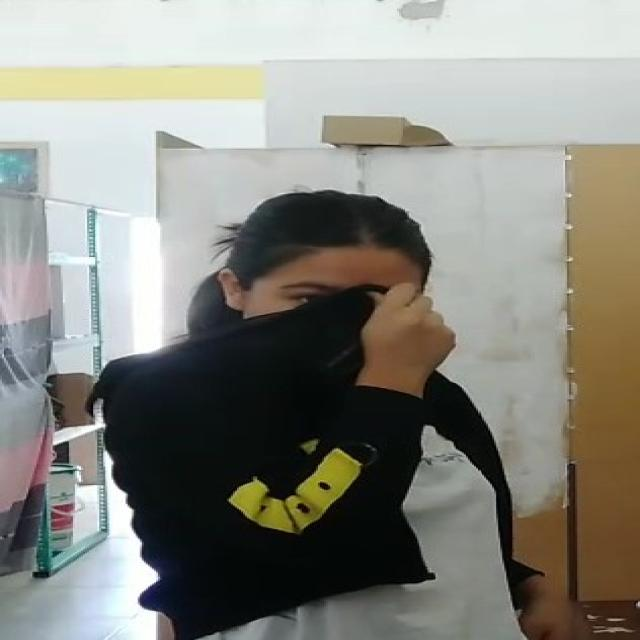8_ropa_rostro: (235, 281, 450, 454)
